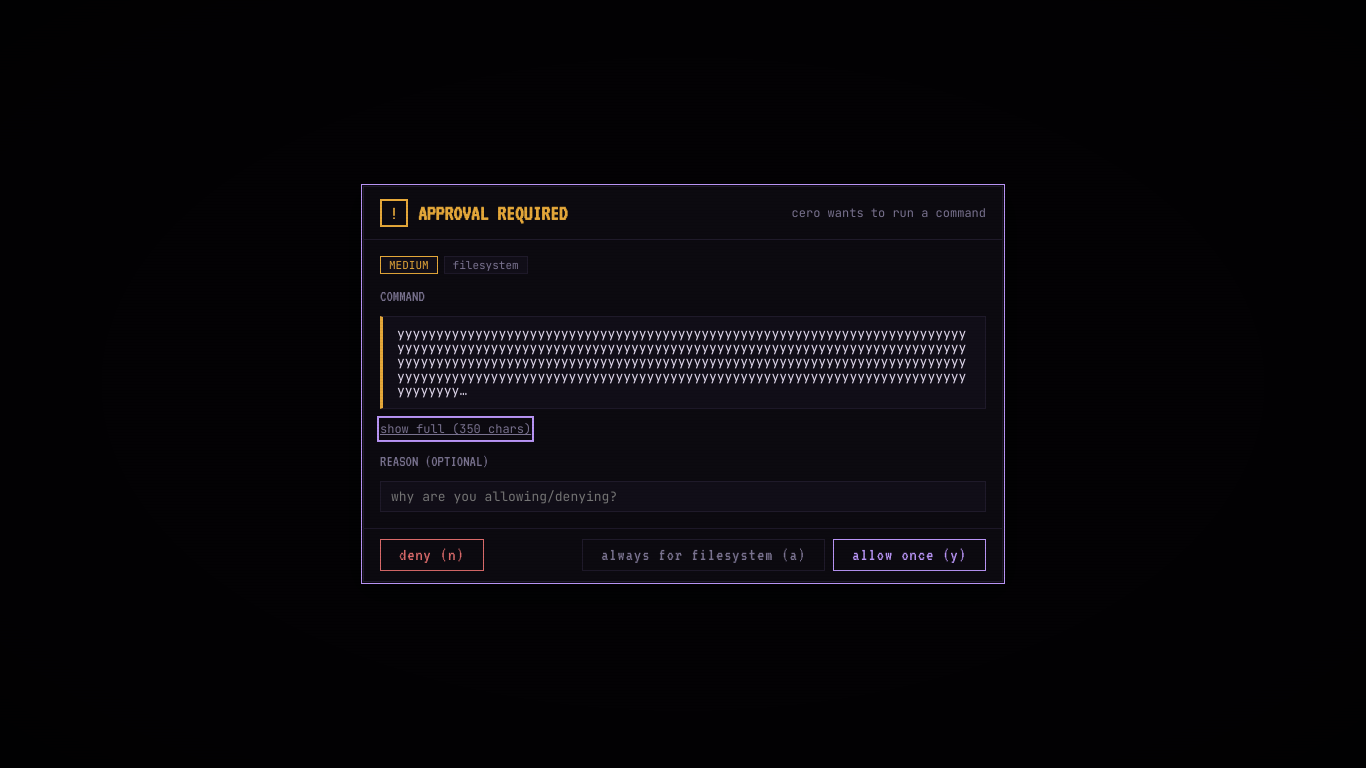
Test: ApprovalModal › long command show-more › toggles to show the full command
Click the button "show full (350 chars)": (456, 429) [380,419,531,439]
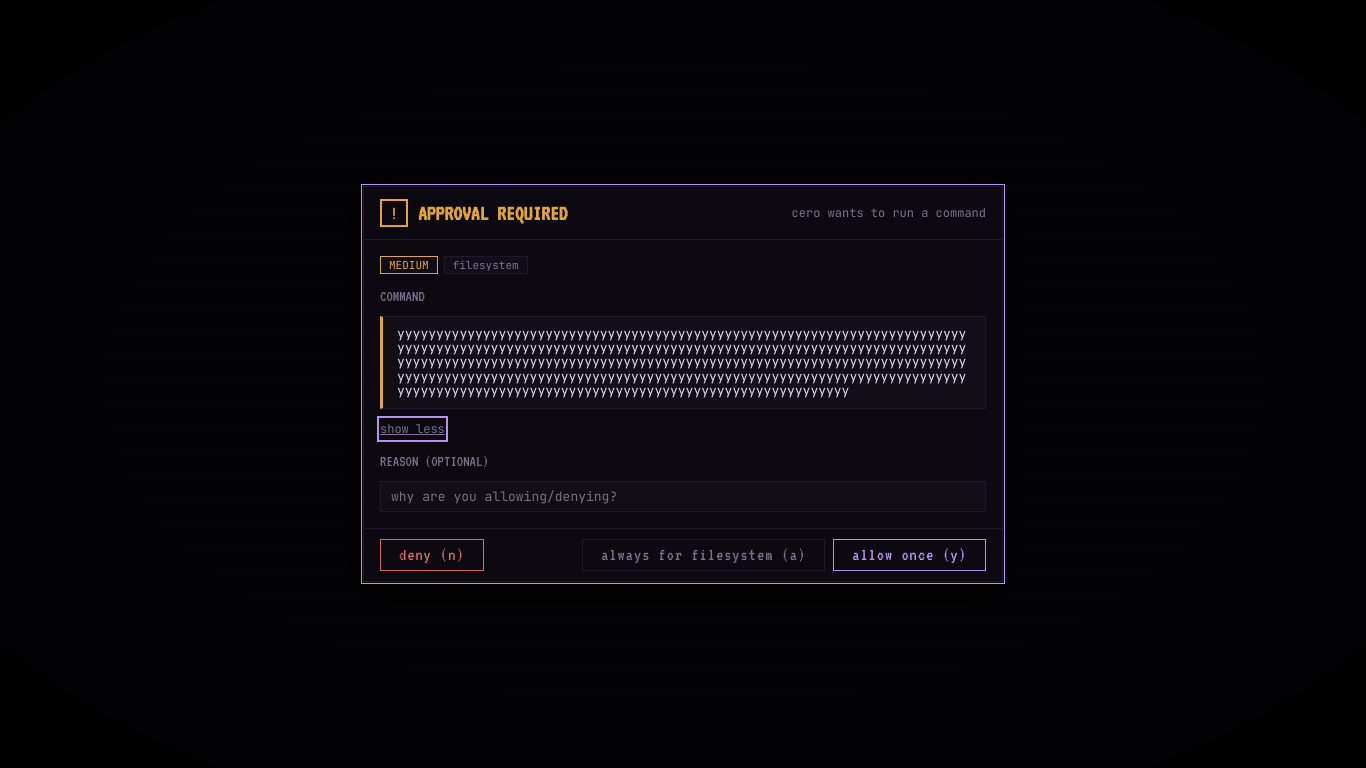
expect the button "show less" is shown: met, box [380,419,445,439]
